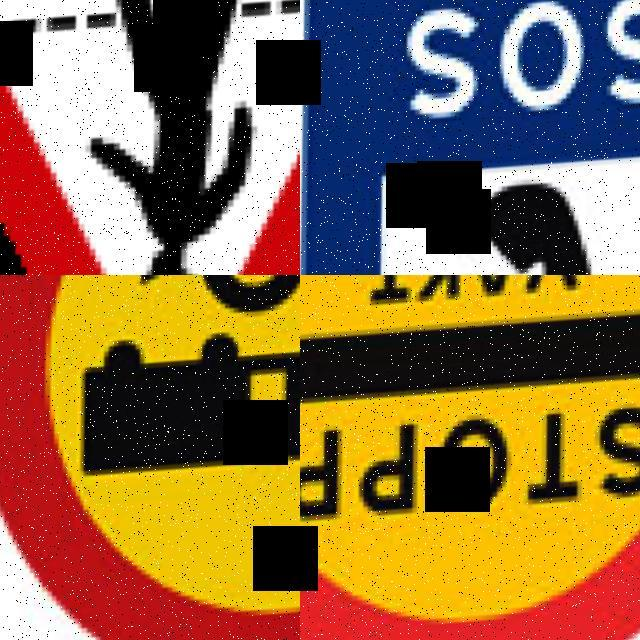116: (300, 275, 640, 640)
56: (300, 0, 640, 275)
No vehicles or combination of vehicles exceeding weight shown: (0, 275, 300, 640)
Pedestrian crossing: (0, 0, 300, 275)
